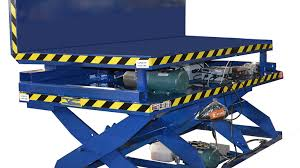Scissor Lift: (8, 1, 284, 168)
